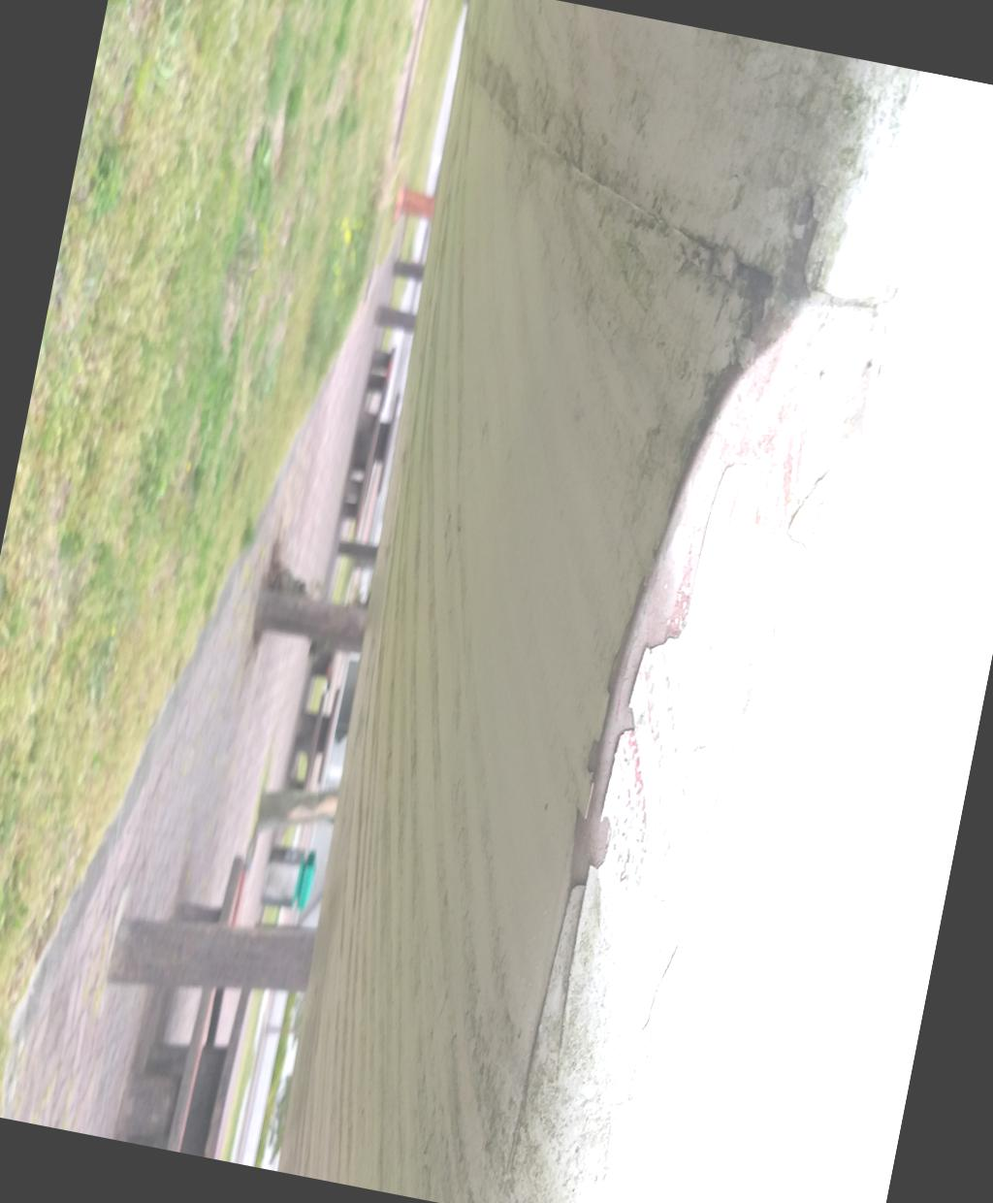corrosion: (494, 350, 900, 858)
